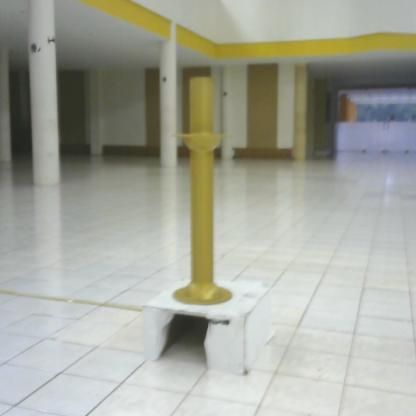pole: (172, 73, 235, 308)
